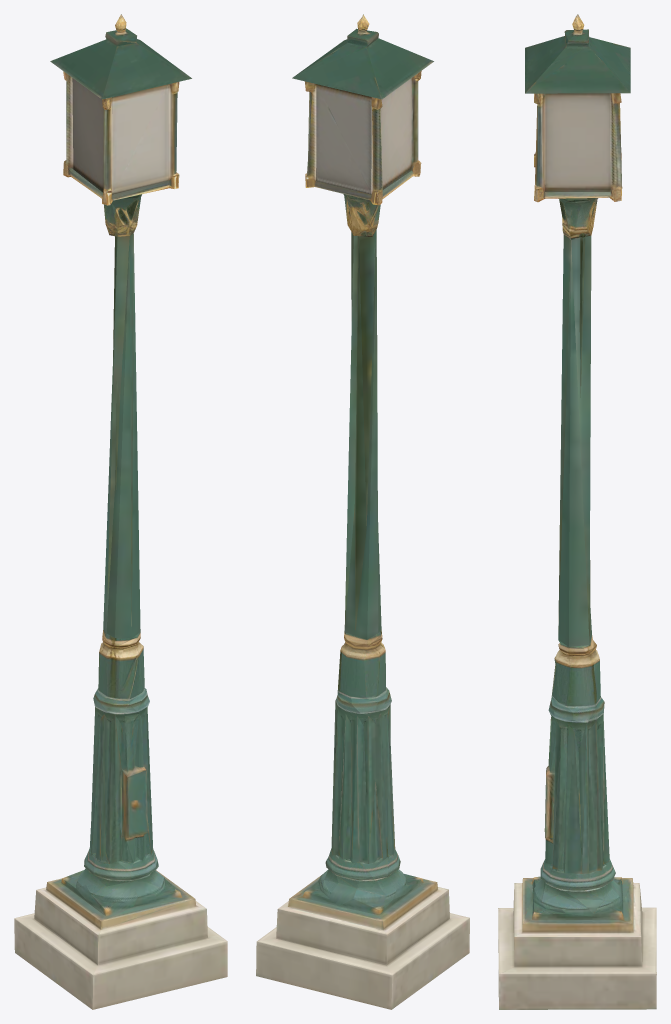
File: street-lamp.glb
The picture shows the model from 3 angles, left to right: view 1: azimuth 30°, elevation 25°; view 2: azimuth 150°, elevation 25°; view 3: azimuth 270°, elevation 25°; orthographic projection.
Visible parts, largest first — view 1: Mesh_0; view 2: Mesh_0; view 3: Mesh_0.
Boxes of the visible parts, left/top/right/bottom form: Mesh_0: left=14, top=14, right=227, bottom=1009; Mesh_0: left=256, top=14, right=469, bottom=1009; Mesh_0: left=498, top=14, right=656, bottom=1009.
Bounding box in the file's own units: 0.2846 × 1.9 × 0.2836.
2 materials, 2 textured.
